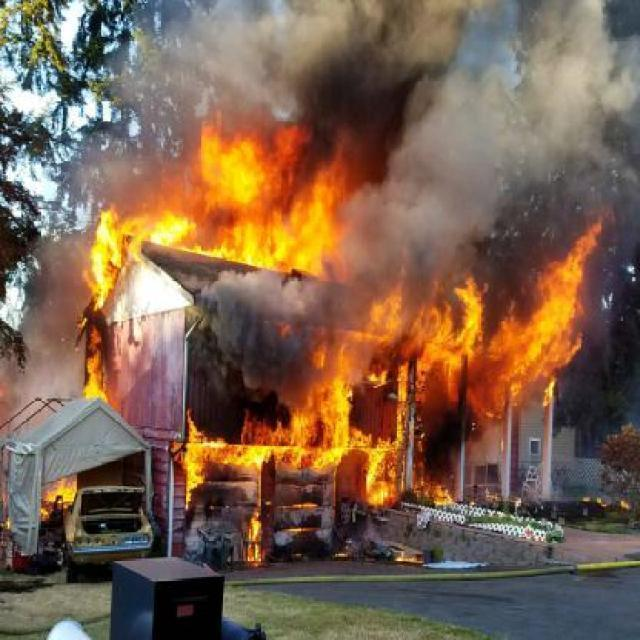Fire: (153, 110, 350, 272), (322, 287, 579, 382), (183, 384, 397, 476), (88, 211, 124, 306), (546, 226, 598, 283), (41, 480, 78, 508), (86, 356, 106, 404), (362, 480, 396, 506), (244, 518, 262, 561)
Smoke: (350, 2, 638, 216), (131, 0, 349, 109)
